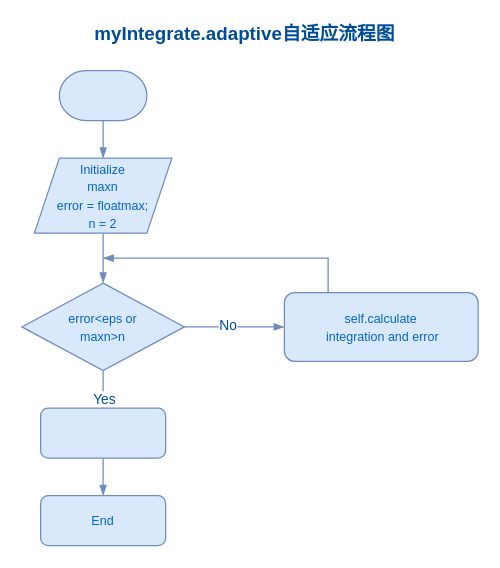
This 500x568 diagram has some shape labels left out. Here are the shapes that lost their labels. From the top down, the centre of each, then its label:
At point (102, 95): "Start".
At point (102, 432): "Output results".
